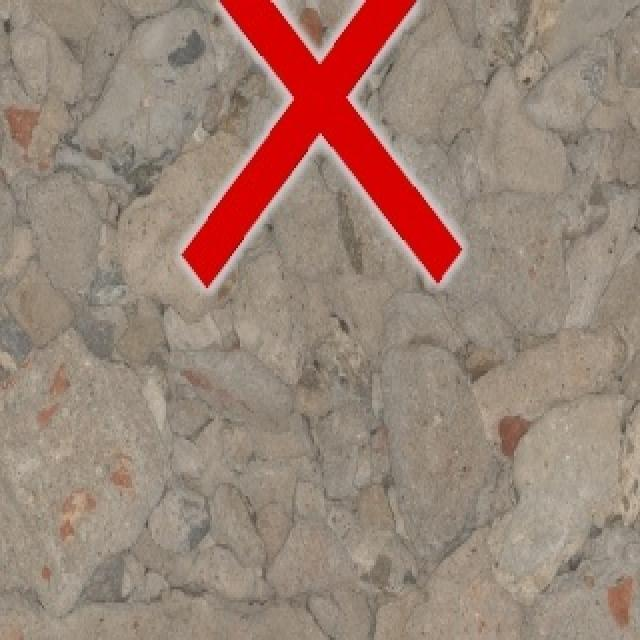x_marker: (181, 0, 461, 288)
